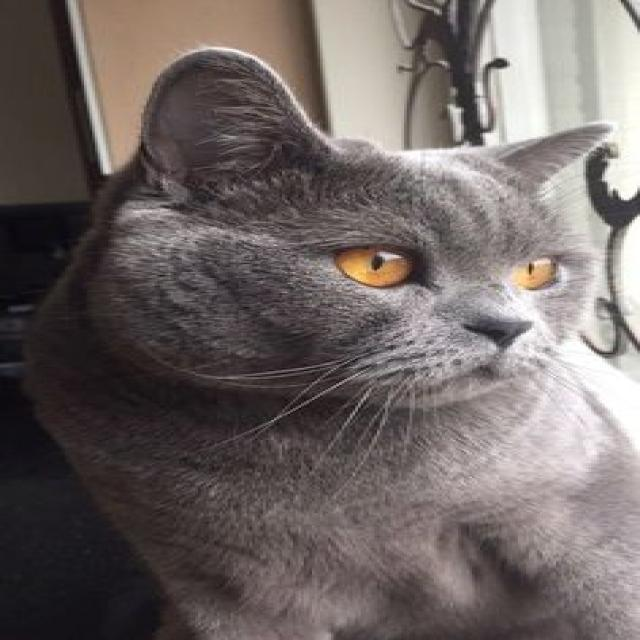da khoe manh: (97, 355, 386, 577)
